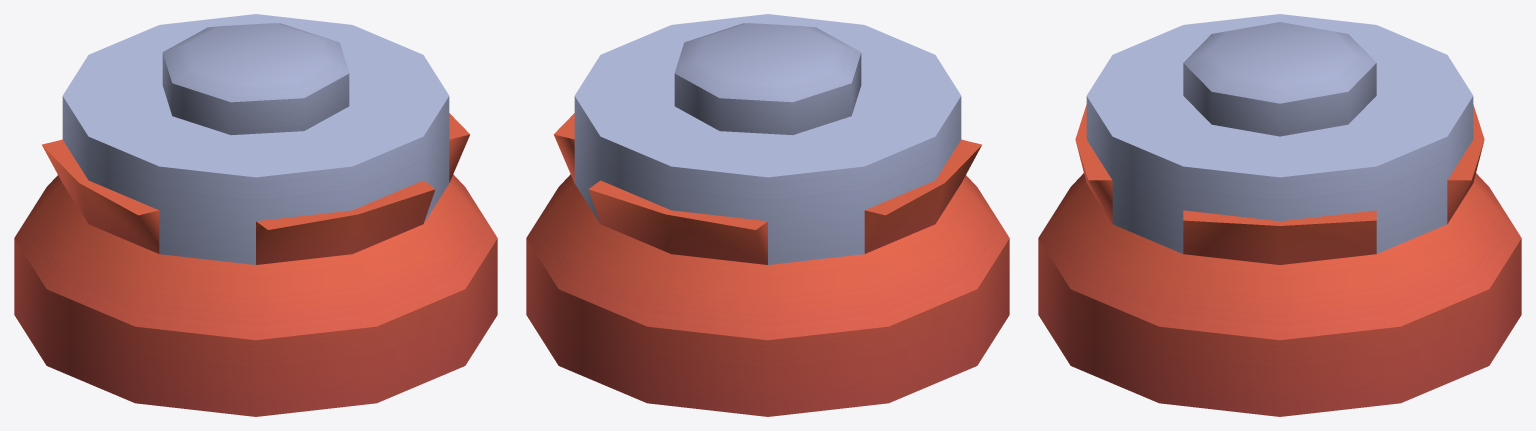
The model's file is tower-round-bottom-c.fbx.
3 renders of one model, left to right at view 1: azimuth 30°, elevation 25°; view 2: azimuth 150°, elevation 25°; view 3: azimuth 270°, elevation 25°, orthographic.
Visible parts, largest first — view 1: tower-round-bottom-c; view 2: tower-round-bottom-c; view 3: tower-round-bottom-c.
Boxes of the visible parts, x1,y1,x2,y2 form: tower-round-bottom-c: [14, 14, 497, 416]; tower-round-bottom-c: [526, 14, 1009, 416]; tower-round-bottom-c: [1038, 14, 1521, 416].
Size of the model in its own units: 100 by 60 by 100.
